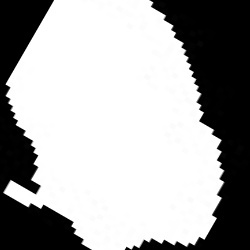spot: (5, 2, 222, 245)
